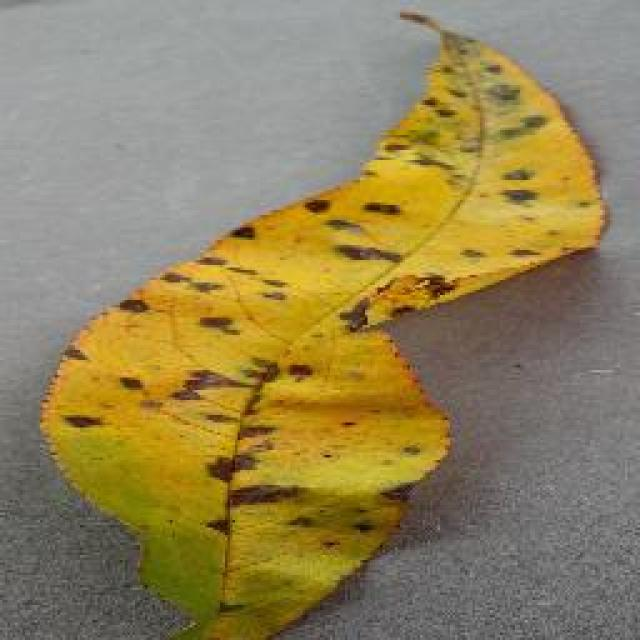Peach_Bacterial_Spot: (247, 175, 435, 592)
